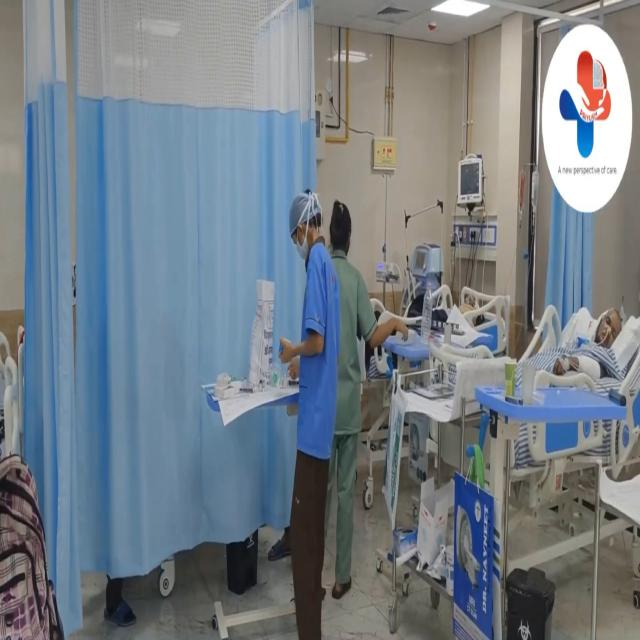Nurse: (284, 163, 334, 640), (328, 192, 384, 605)
Patient: (572, 287, 630, 393), (448, 269, 492, 347)
